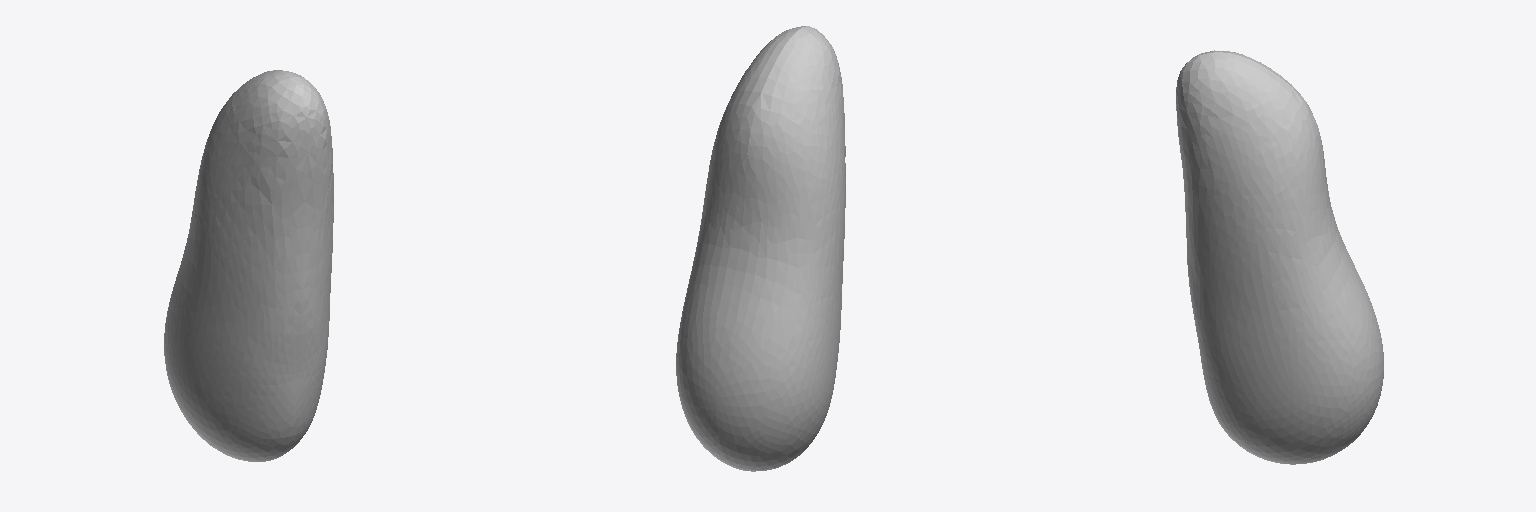
Rendered from thigh.obj.
3 renders of one model, left to right at view 1: azimuth 30°, elevation 25°; view 2: azimuth 150°, elevation 25°; view 3: azimuth 270°, elevation 25°, orthographic.
Size of the model in its own units: 1.85 by 5.37 by 2.49.